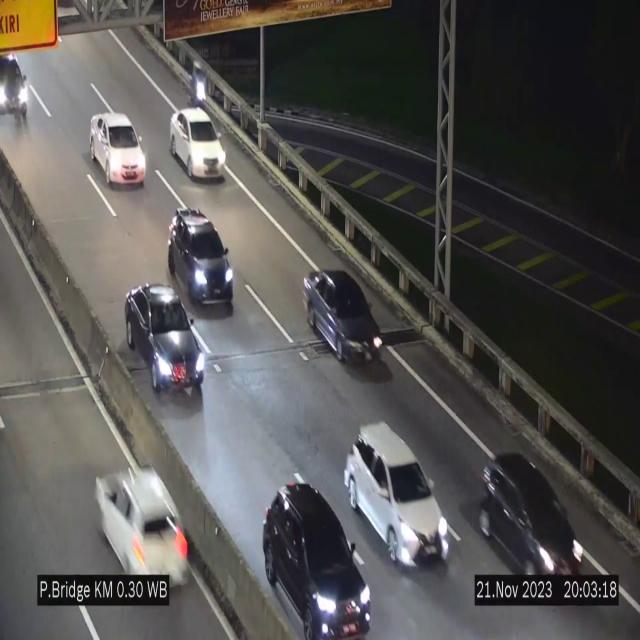Car: (263, 482, 371, 640), (90, 456, 198, 601), (344, 423, 448, 564), (485, 450, 581, 578), (125, 285, 203, 392), (304, 270, 384, 361), (168, 208, 234, 309), (90, 113, 146, 187), (169, 108, 225, 180), (0, 32, 39, 128)
Motorcycle: (189, 53, 207, 113)
